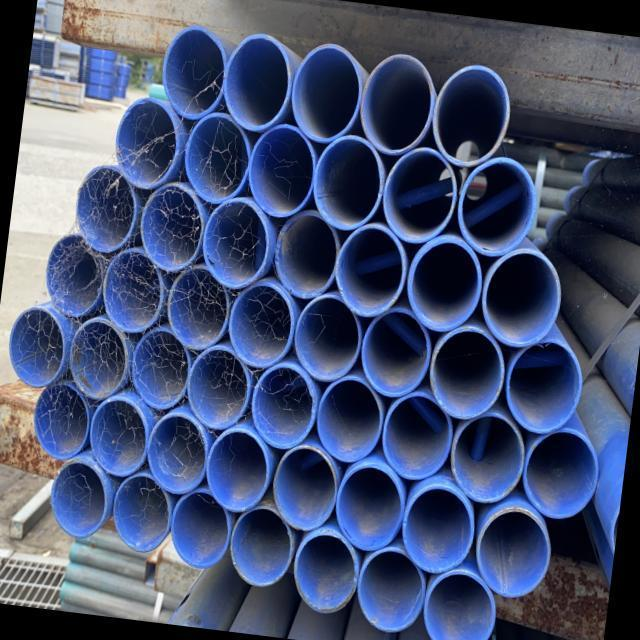pipe: (426, 59, 515, 172), (476, 241, 566, 352), (451, 151, 541, 261), (498, 331, 586, 439), (400, 230, 488, 336), (354, 48, 437, 160), (422, 321, 510, 424), (377, 141, 461, 248), (285, 38, 366, 148), (470, 499, 556, 602), (216, 27, 296, 137), (517, 422, 603, 524), (444, 406, 528, 507), (306, 130, 388, 233), (330, 220, 410, 322), (354, 303, 436, 402), (396, 479, 479, 576), (242, 119, 320, 221), (377, 386, 457, 484), (330, 457, 410, 554), (178, 106, 255, 206), (351, 542, 431, 638), (196, 193, 274, 291), (288, 288, 366, 386), (110, 93, 185, 193), (268, 205, 344, 303), (157, 21, 230, 122), (311, 371, 387, 466), (135, 178, 208, 276), (247, 358, 322, 453), (268, 440, 342, 535), (224, 277, 298, 371), (288, 526, 363, 616), (200, 424, 274, 515), (182, 340, 254, 432), (70, 162, 141, 255), (225, 500, 298, 590), (162, 261, 234, 352), (40, 228, 109, 322), (97, 244, 167, 336), (142, 408, 213, 497), (418, 564, 501, 640), (126, 323, 194, 412), (166, 484, 236, 570), (64, 314, 132, 402), (84, 392, 152, 480), (108, 468, 176, 555), (3, 302, 69, 390), (46, 454, 111, 542), (28, 376, 94, 462)
